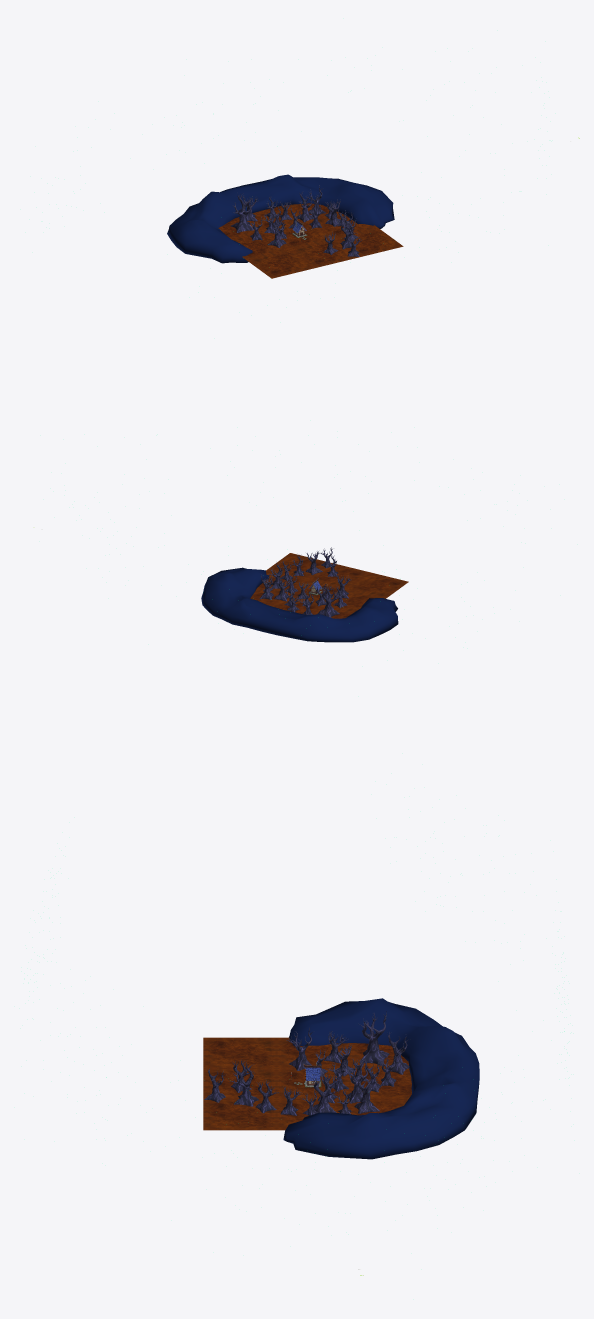
3 views of the same model, one above another, from view 1: azimuth 30°, elevation 25°; view 2: azimuth 150°, elevation 25°; view 3: azimuth 270°, elevation 25° (orthographic). The views are drawn at different scales.
Visible parts, largest first — view 1: Plane.009, Plane; view 2: Plane.009, Plane; view 3: Plane.009, Plane, Plane.008.
Boxes of the visible parts, left/top/right/bottom form: Plane.009: left=167, top=174, right=394, bottom=263; Plane: left=218, top=203, right=403, bottom=278; Plane.009: left=201, top=567, right=398, bottom=642; Plane: left=250, top=553, right=408, bottom=618; Plane.009: left=283, top=998, right=479, bottom=1159; Plane: left=203, top=1037, right=411, bottom=1130; Plane.008: left=358, top=1011, right=389, bottom=1065.
Size of the model in its own units: 152 by 40.57 by 91.58.
Materials: 16 (9 with a texture image).
